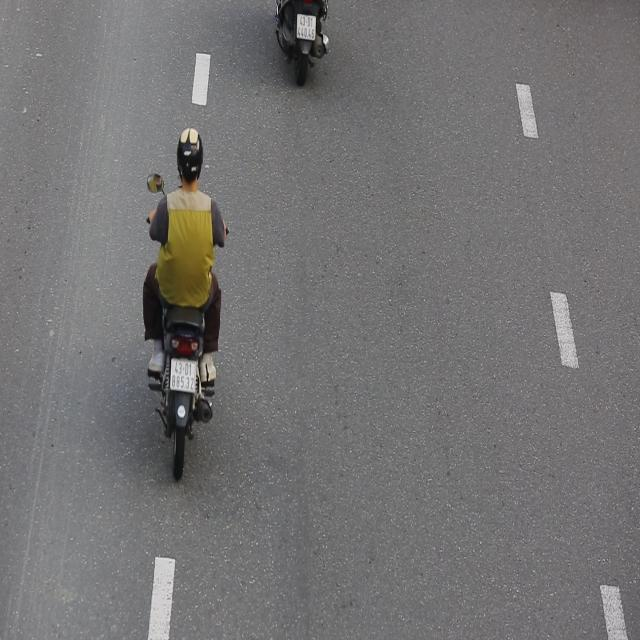motorbike: (140, 116, 228, 482)
